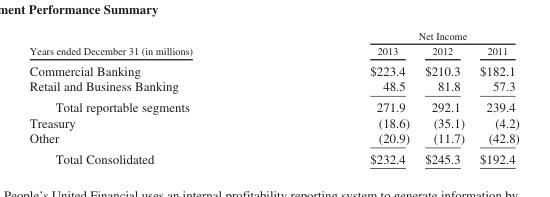table: (28, 29, 518, 165)
table column: (28, 29, 280, 165), (280, 29, 416, 165), (416, 29, 471, 165), (471, 29, 518, 165)
table column header: (28, 29, 518, 59)
table row: (28, 59, 518, 78), (28, 129, 518, 148), (28, 78, 518, 96), (28, 96, 518, 114), (28, 42, 518, 59), (28, 148, 518, 165), (28, 114, 518, 129), (28, 29, 518, 42)
table spanning cell: (28, 29, 280, 59), (280, 29, 518, 42)
